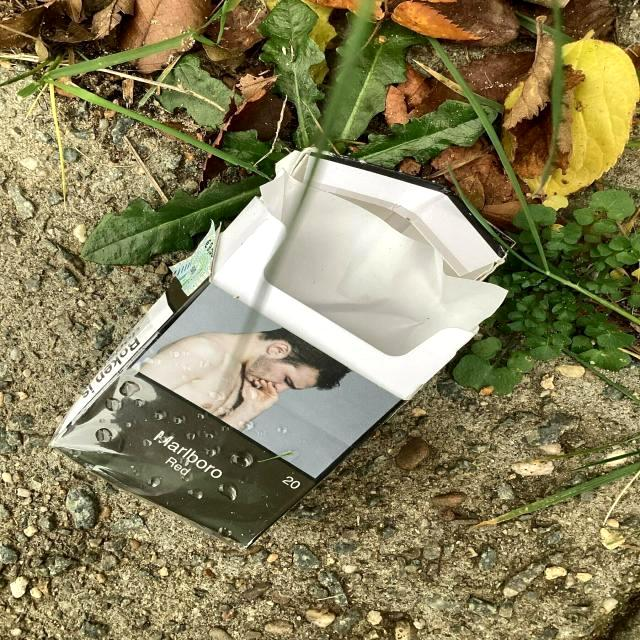Paper: (42, 138, 516, 552)
